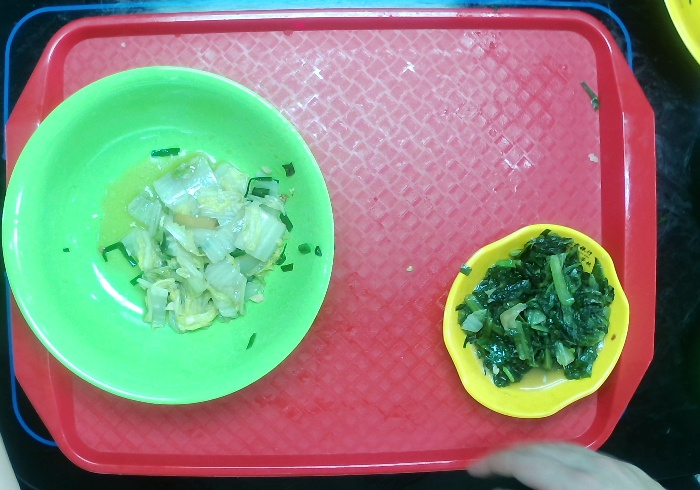YKMZ-Huang_Se_Ao_Bian_Wan: (427, 210, 640, 427)
YKMZ-Lv_Se_Tang_Wan: (1, 59, 341, 413)
